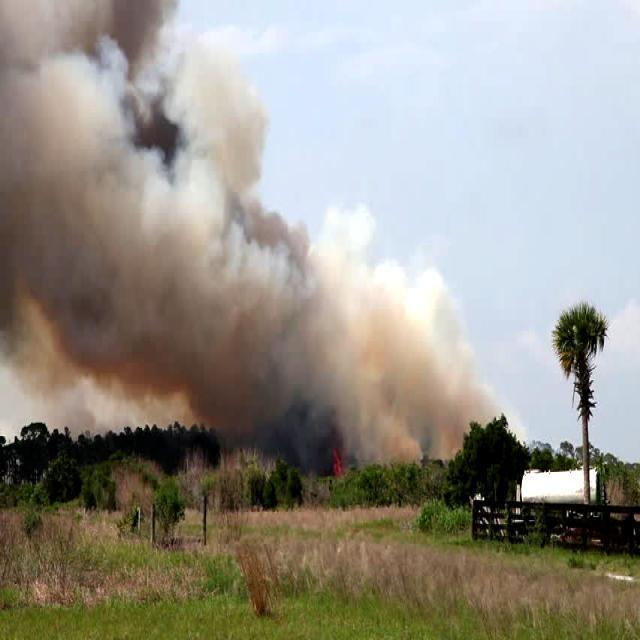Smoke: (0, 0, 442, 463)
